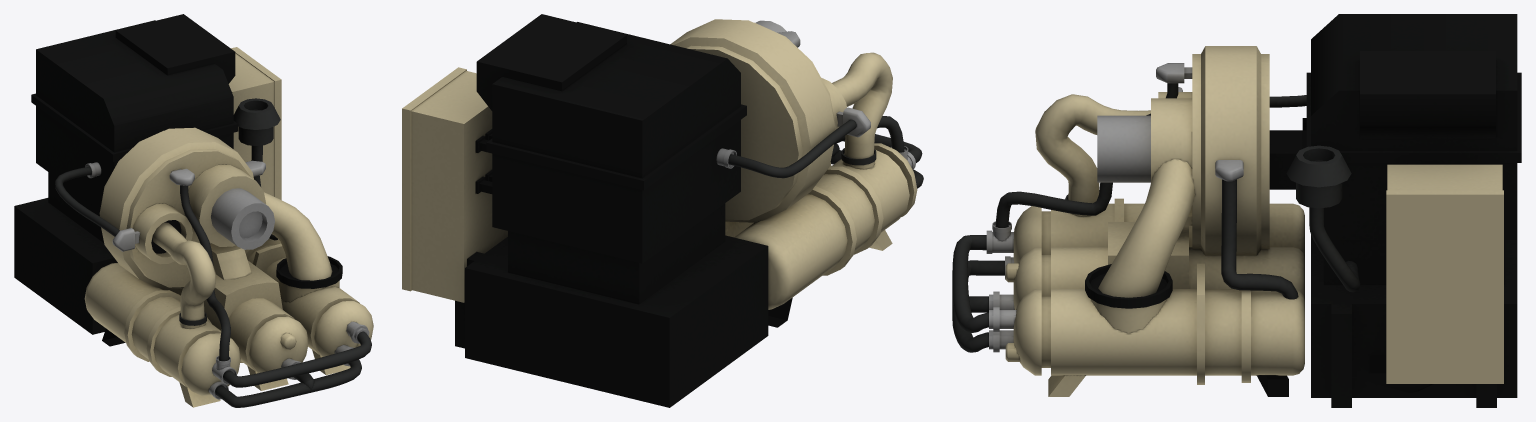
The model's file is Compresor.fbx.
3 renders of one model, left to right at view 1: azimuth 30°, elevation 25°; view 2: azimuth 150°, elevation 25°; view 3: azimuth 270°, elevation 25°, orthographic. The views are drawn at different scales.
Parts seen in each view (by area): view 1: Compresor.001; view 2: Compresor.001; view 3: Compresor.001.
Boxes of the visible parts, x1,y1,x2,y2 form: Compresor.001: (14, 14, 373, 407); Compresor.001: (402, 14, 923, 407); Compresor.001: (952, 14, 1521, 407).
Bounding box in the file's own units: 364 × 324 × 553.
1 material, 1 textured.
